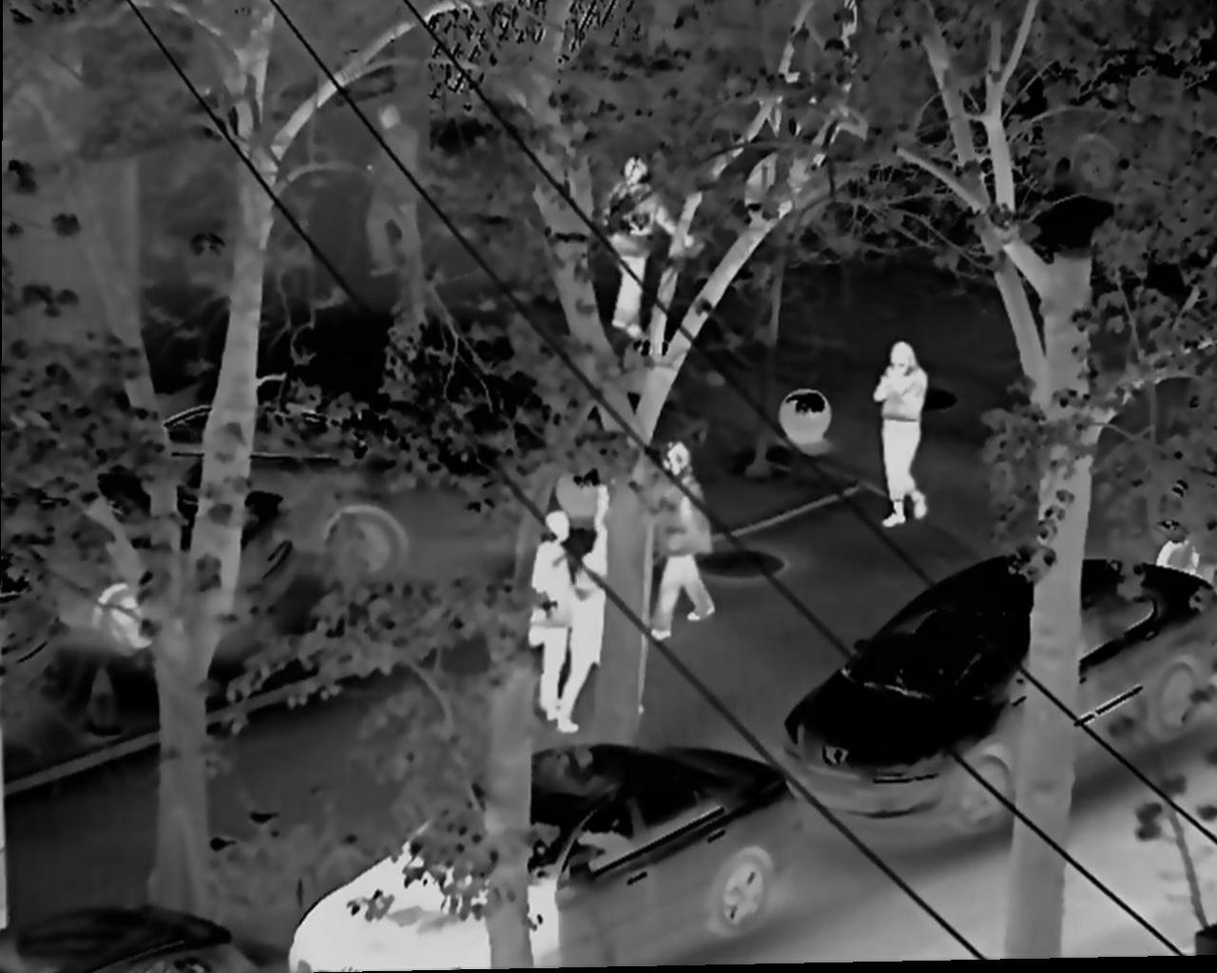person: (552, 476, 643, 728), (589, 155, 699, 343), (645, 435, 723, 636), (521, 507, 576, 722), (875, 345, 934, 527)
